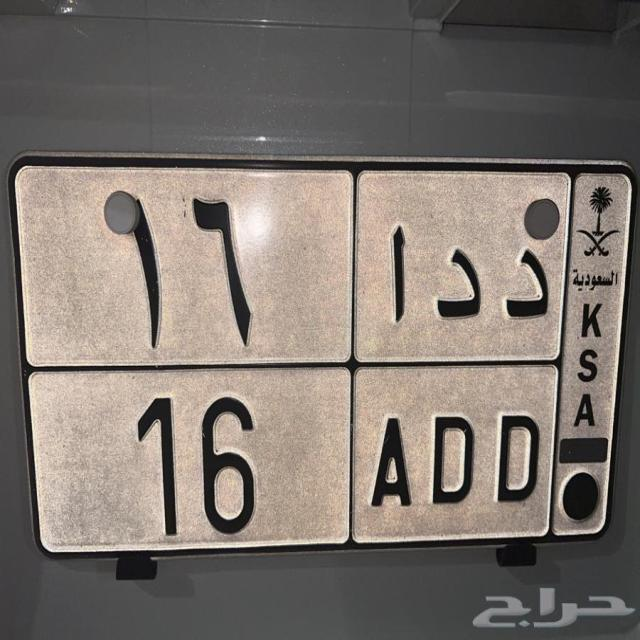license_plate: (22, 366, 556, 544)
